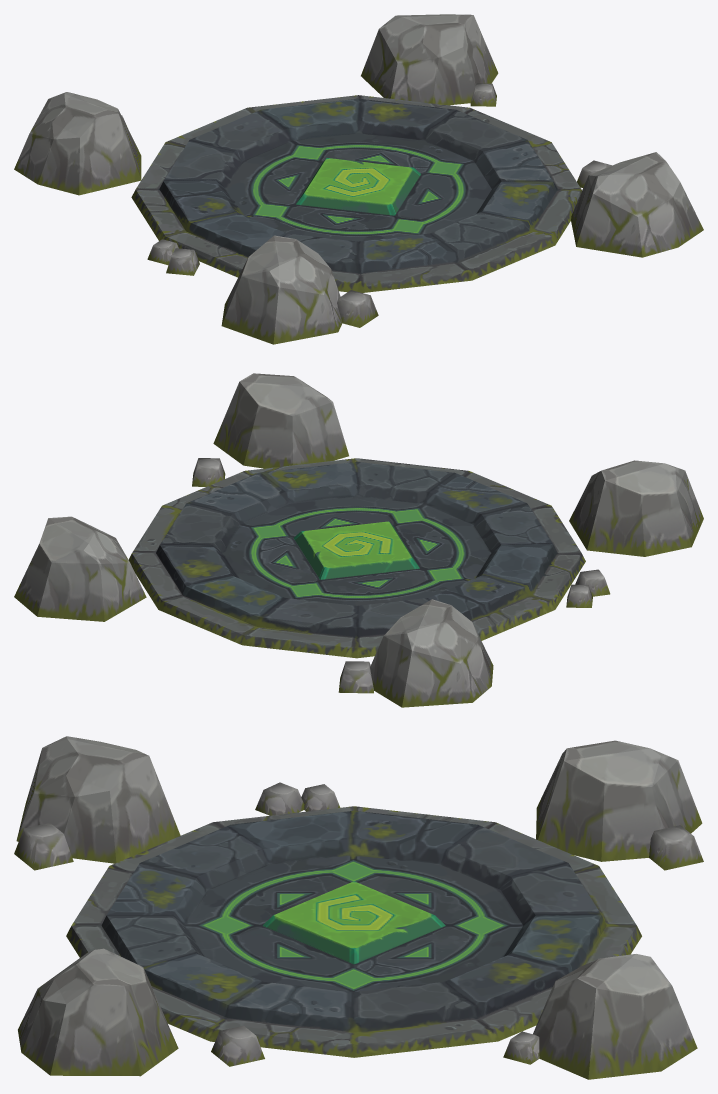
The model's file is Pr_Point_01.FBX.
3 views of the same model, one above another, from view 1: azimuth 30°, elevation 25°; view 2: azimuth 150°, elevation 25°; view 3: azimuth 270°, elevation 25° (orthographic). The views are drawn at different scales.
Parts seen in each view (by area): view 1: Pr_Point_01; view 2: Pr_Point_01; view 3: Pr_Point_01.
Part boxes in pixels (x1,y1,x2,y2): Pr_Point_01: (14, 14, 703, 344); Pr_Point_01: (14, 373, 703, 707); Pr_Point_01: (14, 736, 703, 1079).
Size of the model in its own units: 2.98 by 0.3751 by 3.01.
